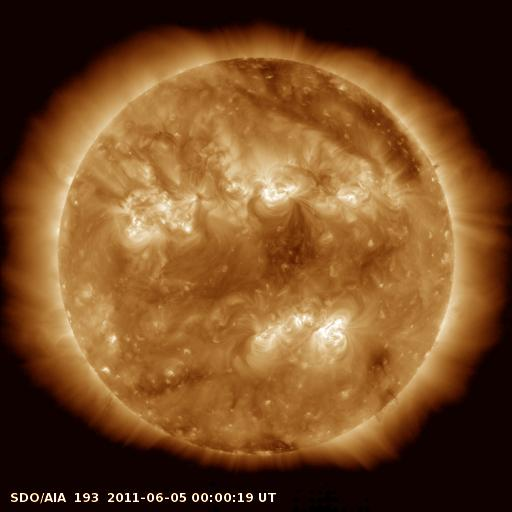coronal_hole: (318, 72, 426, 177), (222, 53, 311, 117)
